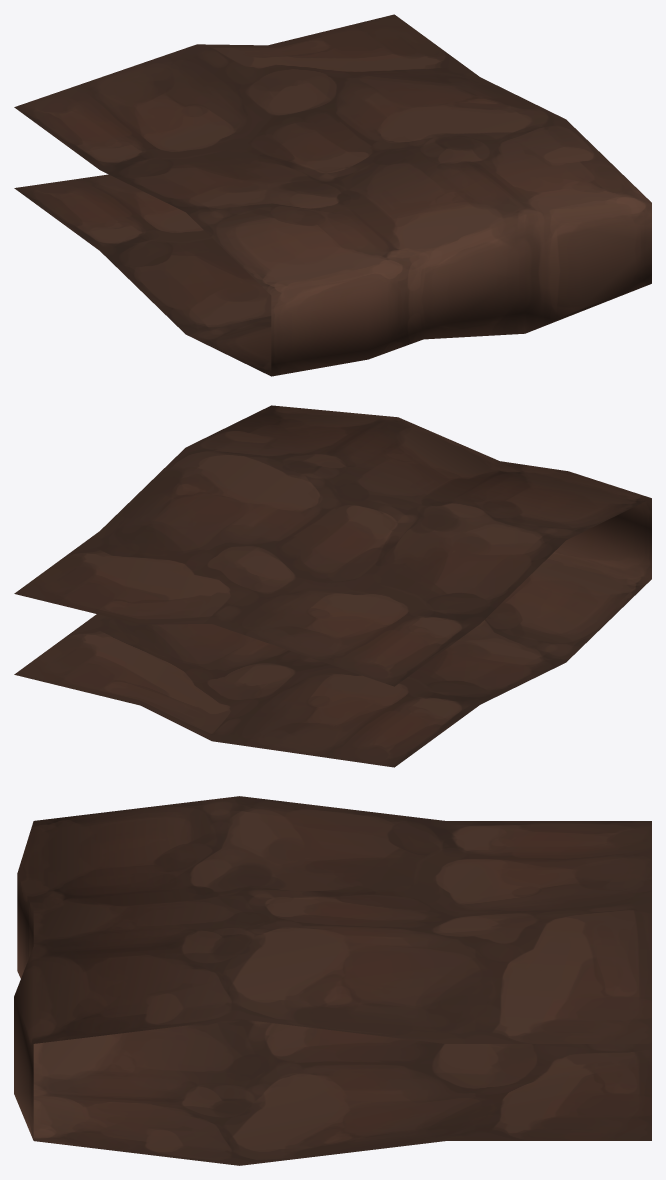
File: Wall_Straight.fbx
3 views of the same model, one above another, from view 1: azimuth 30°, elevation 25°; view 2: azimuth 150°, elevation 25°; view 3: azimuth 270°, elevation 25° (orthographic). The views are drawn at different scales.
Visible parts, largest first — view 1: Object006; view 2: Object006; view 3: Object006.
Part boxes in pixels (<box>): Object006: <box>14,14,651,376</box>; Object006: <box>14,405,651,767</box>; Object006: <box>14,796,651,1165</box>.
Bounding box in the file's own units: 60 × 20.77 × 72.54.
